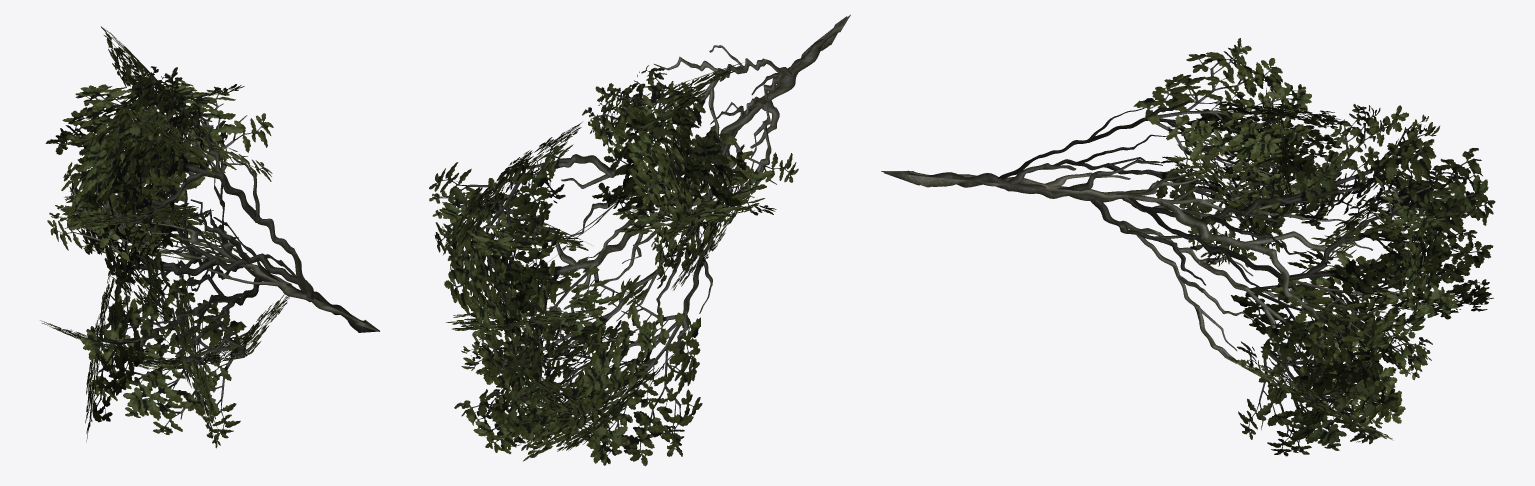
Rendered from MEP_Oak_Part_01.fbx.
3 renders of one model, left to right at view 1: azimuth 30°, elevation 25°; view 2: azimuth 150°, elevation 25°; view 3: azimuth 270°, elevation 25°, orthographic. The views are drawn at different scales.
Parts seen in each view (by area): view 1: MEP_Oak_Part_01; view 2: MEP_Oak_Part_01; view 3: MEP_Oak_Part_01.
Boxes of the visible parts, left/top/right/bottom form: MEP_Oak_Part_01: left=40, top=26, right=379, bottom=448; MEP_Oak_Part_01: left=429, top=14, right=850, bottom=466; MEP_Oak_Part_01: left=881, top=38, right=1495, bottom=456.
Size of the model in its own units: 7.05 by 9.01 by 13.52.
